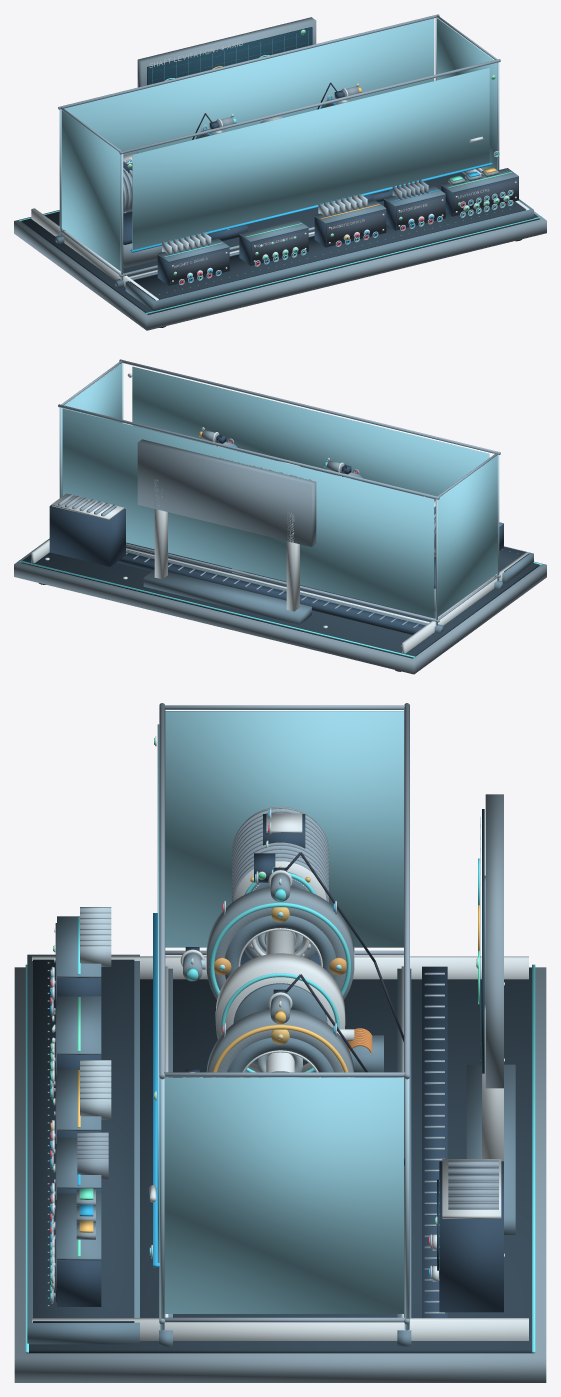
Rendered from Level55_Complete_ArtKit_Showcase.fbx.
The picture shows the model from 3 angles, top to bottom: view 1: azimuth 30°, elevation 25°; view 2: azimuth 150°, elevation 25°; view 3: azimuth 270°, elevation 25°; orthographic projection. The views are drawn at different scales.
Visible parts, largest first — view 1: Model::L55_SafetyEnclosure__Guard_SwingDoorFront, Model::L55_SafetyEnclosure__Guard_BackAcrylic, Model::L55_IndustrialBase__Base_MachinedChassis, Model::L55_SafetyEnclosure__Guard_EndAcrylic-4.69, Model::L55_IndustrialBase__FrontTerminal_Inset, Model::L55_IndustrialBase__FrontTerminalShelf, Model::L55_IndustrialBase__Base_TopBlackInset, Model::L55_HolographicMonitor__HoloMonitor_BlackGlass, Model::L55_SafetyEnclosure__Guard_EndAcrylic4.69, Model::L55_HolographicMonitor__HoloMonitor_Body, Model::L55_SafetyEnclosure__Guard_LongBeam3.281.28, Model::L55_SafetyEnclosure__Guard_LongBeam3.28-1.37 (+20 smaller); view 2: Model::L55_SafetyEnclosure__Guard_BackAcrylic, Model::L55_SafetyEnclosure__Guard_SwingDoorFront, Model::L55_HolographicMonitor__HoloMonitor_Body, Model::L55_IndustrialBase__Base_MachinedChassis, Model::L55_IndustrialBase__Base_TopBlackInset, Model::L55_SafetyEnclosure__Guard_EndAcrylic-4.69, Model::L55_5VSupply__Supply_MainCase, Model::L55_HolographicMonitor__HoloMonitor_Foot, Model::L55_IndustrialBase__BackWireDuct, Model::L55_SafetyEnclosure__Guard_EndAcrylic4.69, Model::L55_SafetyEnclosure__Guard_LongBeam3.28-1.37, Model::L55_SafetyEnclosure__Guard_LongBeam3.281.28 (+10 smaller); view 3: Model::L55_SafetyEnclosure__Guard_EndAcrylic4.69, Model::L55_SafetyEnclosure__Guard_EndAcrylic-4.69, Model::L55_IndustrialBase__Base_TopBlackInset, Model::L55_IndustrialBase__Base_MachinedChassis, Model::L55_IndustrialBase__FrontTerminal_Inset, Model::L55_IndustrialBase__EndProtect4.63, Model::L55_IndustrialBase__FrontTerminalShelf, Model::L55_IndustrialBase__BackWireDuct, Model::L55_5VSupply__Supply_MainCase, Model::L55_HolographicMonitor__HoloMonitor_Body, Model::L55_LeftMagneticBearing__LEFT_StatorOuterFrame, Model::L55_LevitationRotor__Rotor_Flywheel_0 (+35 smaller).
Boxes of the visible parts, left/top/right/bottom form: Model::L55_SafetyEnclosure__Guard_SwingDoorFront: left=132, top=67, right=489, bottom=249; Model::L55_SafetyEnclosure__Guard_BackAcrylic: left=64, top=18, right=434, bottom=155; Model::L55_IndustrialBase__Base_MachinedChassis: left=14, top=169, right=546, bottom=330; Model::L55_SafetyEnclosure__Guard_EndAcrylic-4.69: left=61, top=110, right=120, bottom=270; Model::L55_IndustrialBase__FrontTerminal_Inset: left=130, top=201, right=525, bottom=300; Model::L55_IndustrialBase__FrontTerminalShelf: left=125, top=199, right=533, bottom=311; Model::L55_IndustrialBase__Base_TopBlackInset: left=21, top=172, right=539, bottom=314; Model::L55_HolographicMonitor__HoloMonitor_BlackGlass: left=147, top=27, right=312, bottom=85; Model::L55_SafetyEnclosure__Guard_EndAcrylic4.69: left=437, top=18, right=496, bottom=170; Model::L55_HolographicMonitor__HoloMonitor_Body: left=137, top=17, right=316, bottom=87; Model::L55_SafetyEnclosure__Guard_LongBeam3.281.28: left=119, top=59, right=500, bottom=154; Model::L55_SafetyEnclosure__Guard_LongBeam3.28-1.37: left=58, top=14, right=439, bottom=109; Model::L55_SafetyEnclosure__Guard_BackAcrylic: left=62, top=408, right=434, bottom=617; Model::L55_SafetyEnclosure__Guard_SwingDoorFront: left=132, top=366, right=489, bottom=500; Model::L55_HolographicMonitor__HoloMonitor_Body: left=137, top=439, right=316, bottom=546; Model::L55_IndustrialBase__Base_MachinedChassis: left=14, top=538, right=546, bottom=674; Model::L55_IndustrialBase__Base_TopBlackInset: left=21, top=542, right=539, bottom=658; Model::L55_SafetyEnclosure__Guard_EndAcrylic-4.69: left=438, top=455, right=497, bottom=616; Model::L55_5VSupply__Supply_MainCase: left=49, top=505, right=125, bottom=566; Model::L55_HolographicMonitor__HoloMonitor_Foot: left=143, top=570, right=311, bottom=624; Model::L55_IndustrialBase__BackWireDuct: left=116, top=552, right=425, bottom=634; Model::L55_SafetyEnclosure__Guard_EndAcrylic4.69: left=62, top=363, right=121, bottom=496; Model::L55_SafetyEnclosure__Guard_LongBeam3.28-1.37: left=58, top=404, right=439, bottom=499; Model::L55_SafetyEnclosure__Guard_LongBeam3.281.28: left=119, top=359, right=500, bottom=454; Model::L55_SafetyEnclosure__Guard_EndAcrylic4.69: left=164, top=1077, right=403, bottom=1313; Model::L55_SafetyEnclosure__Guard_EndAcrylic-4.69: left=165, top=711, right=403, bottom=947; Model::L55_IndustrialBase__Base_TopBlackInset: left=27, top=967, right=533, bottom=1353; Model::L55_IndustrialBase__Base_MachinedChassis: left=14, top=967, right=546, bottom=1382; Model::L55_IndustrialBase__FrontTerminal_Inset: left=33, top=959, right=134, bottom=1322; Model::L55_IndustrialBase__EndProtect4.63: left=32, top=1318, right=528, bottom=1340; Model::L55_IndustrialBase__FrontTerminalShelf: left=27, top=954, right=139, bottom=1344; Model::L55_IndustrialBase__BackWireDuct: left=422, top=966, right=447, bottom=1317; Model::L55_5VSupply__Supply_MainCase: left=439, top=1161, right=503, bottom=1312; Model::L55_HolographicMonitor__HoloMonitor_Body: left=485, top=794, right=503, bottom=1088; Model::L55_LeftMagneticBearing__LEFT_StatorOuterFrame: left=206, top=887, right=354, bottom=999; Model::L55_LevitationRotor__Rotor_Flywheel_0: left=215, top=953, right=345, bottom=1077.
Size of the model in its own units: 1000 by 383 by 575.
